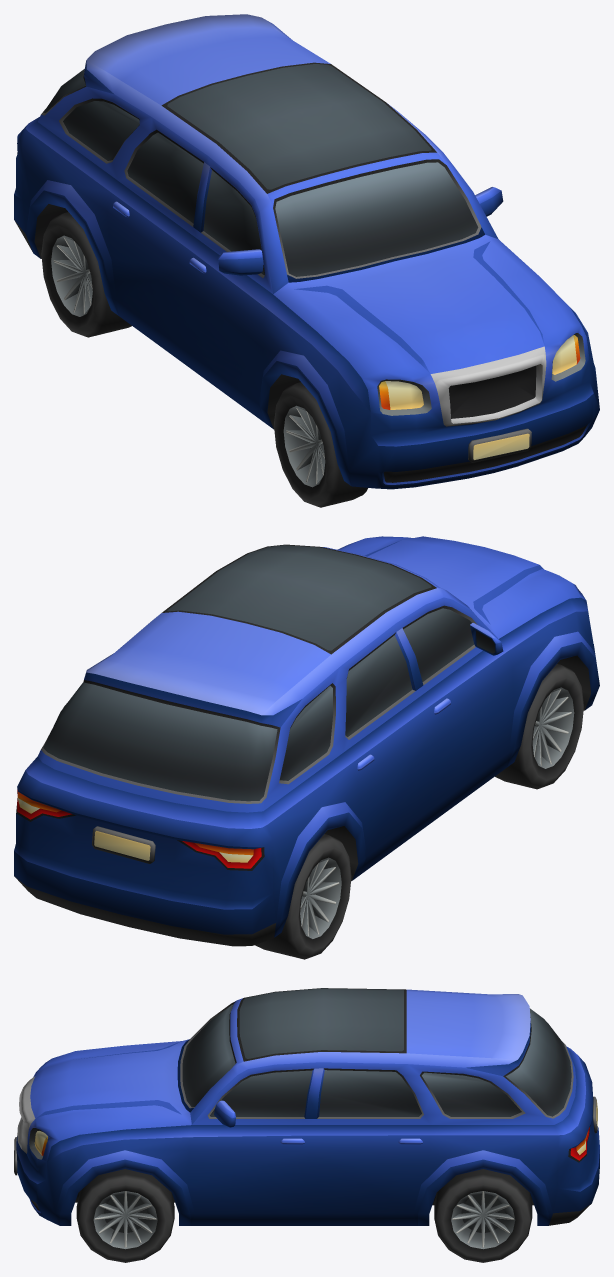
Rendered from Car_18D.fbx.
3 views of the same model, one above another, from view 1: azimuth 30°, elevation 25°; view 2: azimuth 150°, elevation 25°; view 3: azimuth 270°, elevation 25° (orthographic). The views are drawn at different scales.
Parts seen in each view (by area): view 1: Car_18D, Wheel_18D_F.R, Wheel_18D_R.R; view 2: Car_18D, Wheel_18D_R.R, Wheel_18D_F.R; view 3: Car_18D, Wheel_18D_R.L, Wheel_18D_F.L.
Part boxes in pixels (<box>): Car_18D: <box>14,14,599,489</box>; Wheel_18D_F.R: <box>274,382,367,507</box>; Wheel_18D_R.R: <box>41,212,131,337</box>; Car_18D: <box>14,536,599,946</box>; Wheel_18D_R.R: <box>255,834,351,959</box>; Wheel_18D_F.R: <box>495,664,583,789</box>; Car_18D: <box>14,988,599,1225</box>; Wheel_18D_R.L: <box>434,1169,532,1262</box>; Wheel_18D_F.L: <box>76,1169,174,1262</box>.
Size of the model in its own units: 262 by 236 by 608.
